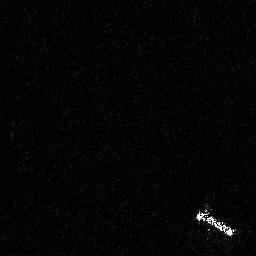ship: (191, 201, 237, 241)
